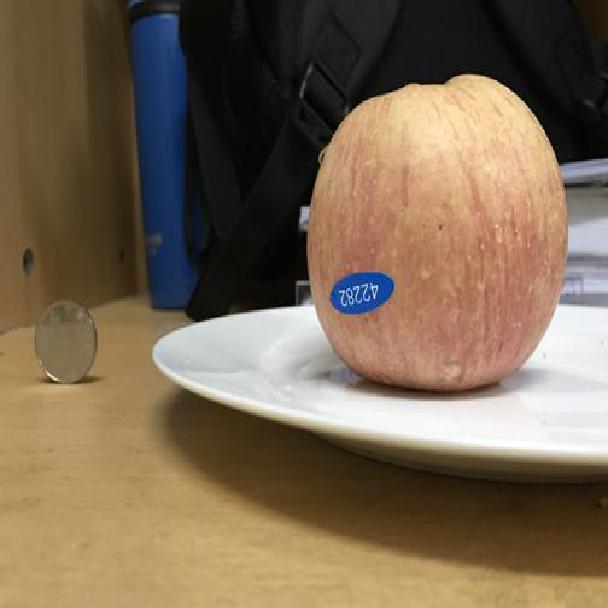apple: (307, 72, 570, 396)
